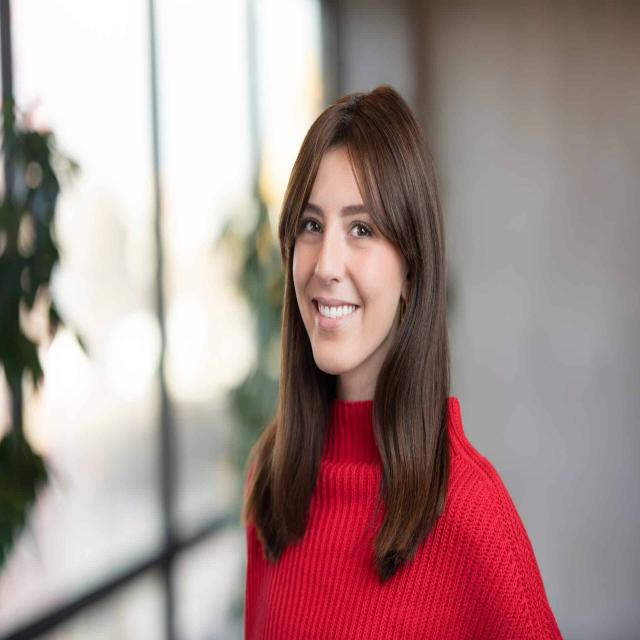nothing: (272, 73, 440, 248)
